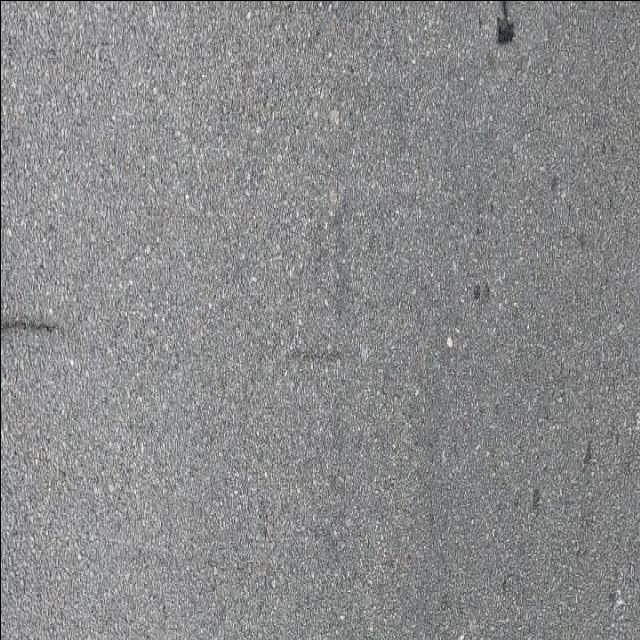cracks: (0, 293, 64, 367)
